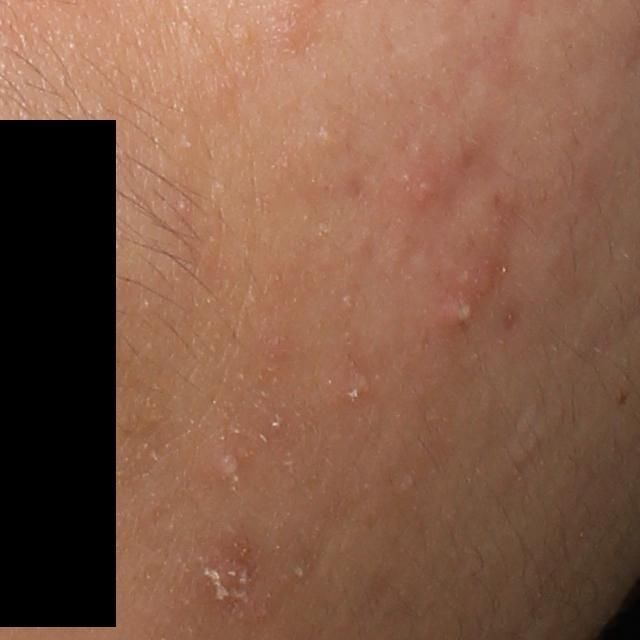comedo: (314, 122, 336, 148)
pustule: (436, 300, 476, 331)
